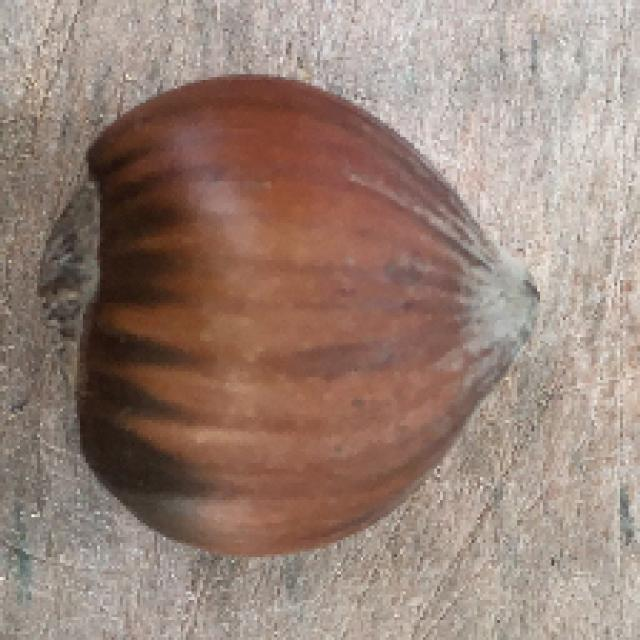damagedHazelnut: (31, 80, 542, 554)
